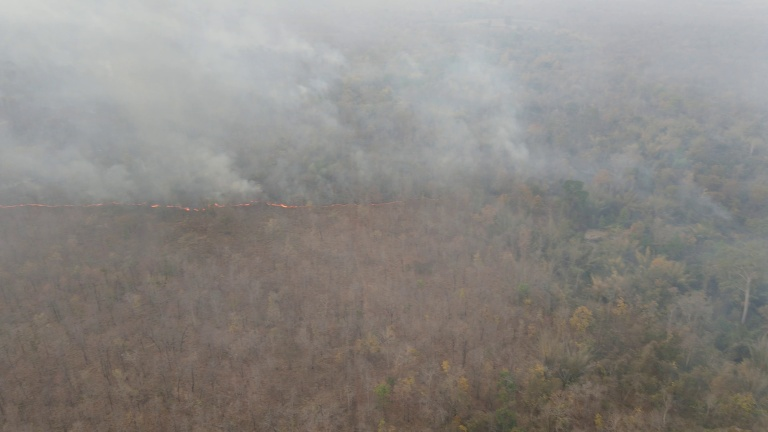fire: (2, 192, 415, 222)
smoke: (1, 1, 550, 200), (555, 133, 745, 233)
